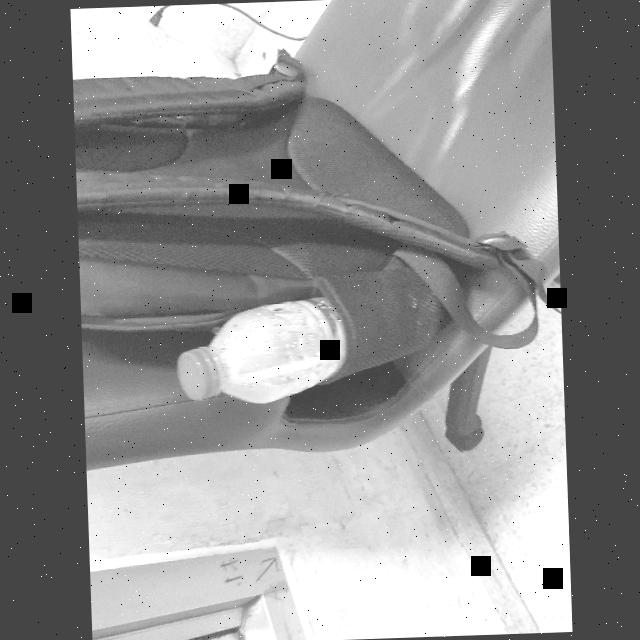plastic_bottle: (170, 294, 350, 412)
plastic_bottle_cap: (173, 348, 220, 401)
straw: (226, 334, 336, 384)
